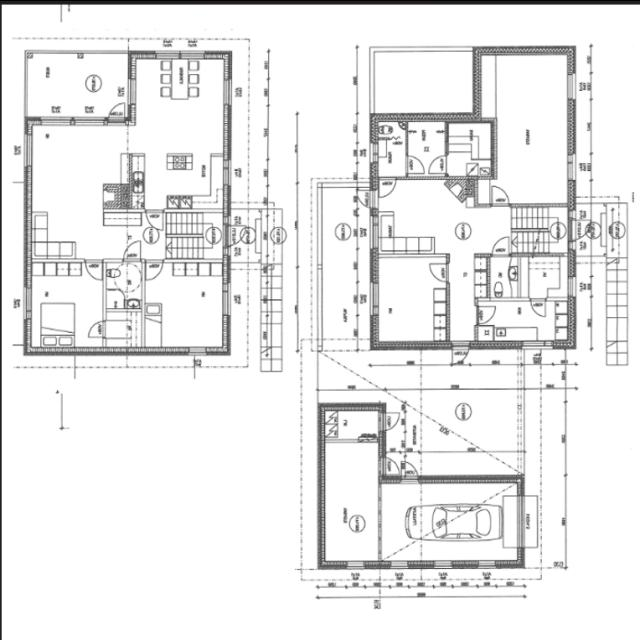door: (378, 407, 406, 433), (376, 452, 400, 482), (79, 258, 105, 282), (475, 302, 497, 330), (108, 97, 128, 127), (489, 180, 509, 210), (569, 216, 592, 242), (427, 259, 451, 283), (404, 152, 427, 176), (447, 343, 471, 366), (491, 233, 513, 257), (527, 297, 551, 319), (144, 209, 167, 231), (397, 461, 419, 483), (349, 190, 375, 207), (381, 175, 401, 197), (429, 157, 450, 176), (146, 257, 162, 281), (124, 238, 142, 258), (87, 320, 105, 339)
window: (35, 112, 125, 131), (516, 492, 531, 561), (156, 45, 208, 64), (562, 69, 576, 109), (218, 76, 234, 110), (520, 335, 552, 352), (23, 128, 36, 168), (565, 153, 582, 181), (367, 281, 381, 315), (367, 136, 382, 167), (127, 71, 139, 109), (367, 186, 382, 214), (473, 559, 503, 573), (24, 282, 34, 322), (370, 217, 380, 257), (565, 268, 579, 296), (220, 157, 233, 184), (221, 280, 231, 315), (184, 345, 210, 358), (432, 558, 458, 571), (348, 556, 372, 570), (387, 562, 418, 570), (223, 245, 229, 258), (227, 214, 231, 224)
